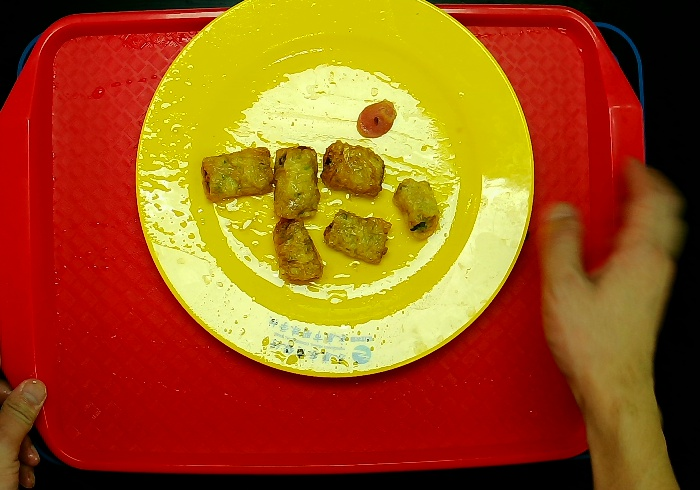YKMZ-Huang_Se_Mian_Pan: (132, 1, 539, 383)
